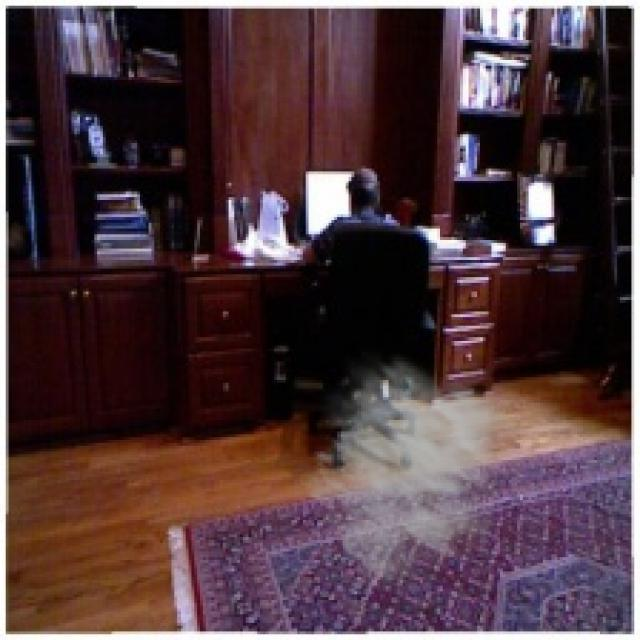Smoke: (297, 346, 540, 594)
